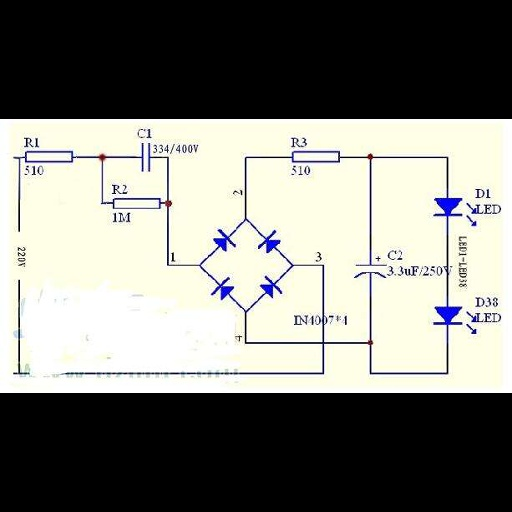capacitor: (135, 141, 152, 174)
firstled: (428, 193, 476, 233), (428, 301, 477, 339)
firstpolarcapacitor: (350, 253, 388, 285)
firstresistance: (288, 149, 346, 165), (22, 149, 79, 165), (110, 197, 164, 211)
rectifierbridge: (195, 216, 296, 313)
